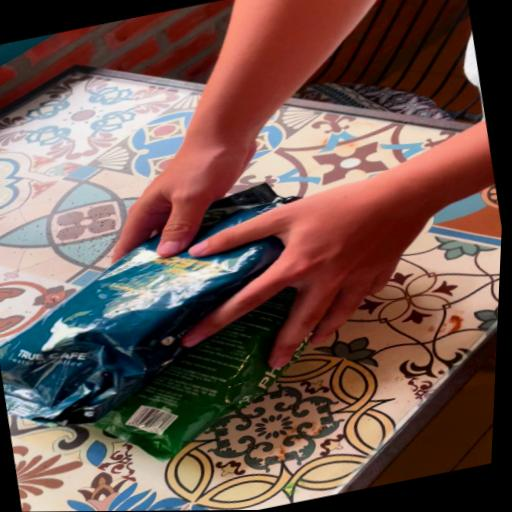cafe_hat: (0, 236, 283, 424), (193, 184, 297, 244)
cafe_xay: (93, 288, 295, 460)
